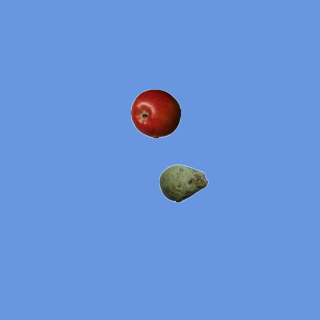Apple Braeburn: (130, 88, 180, 138)
Pear Stone: (158, 158, 208, 208)
